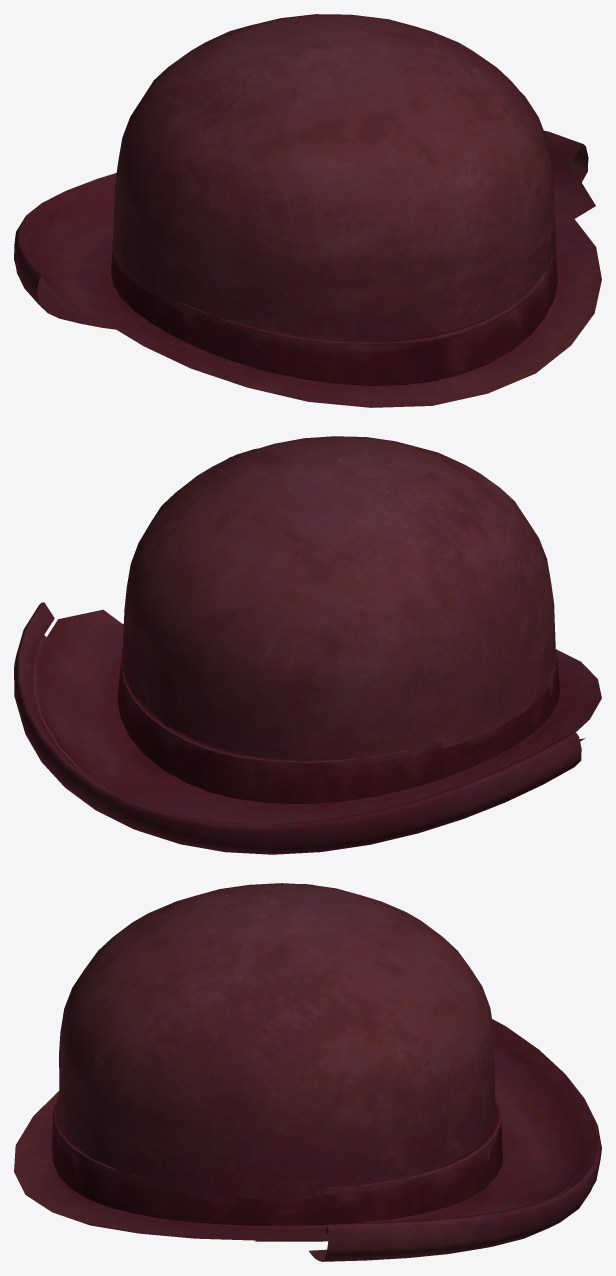
File: jungpurple.fbx
3 views of the same model, one above another, from view 1: azimuth 30°, elevation 25°; view 2: azimuth 150°, elevation 25°; view 3: azimuth 270°, elevation 25° (orthographic). The views are drawn at different scales.
Visible parts, largest first — view 1: node_id5; view 2: node_id5; view 3: node_id5.
Part boxes in pixels (bbox=[...]): node_id5: bbox=[14, 14, 601, 407]; node_id5: bbox=[14, 436, 601, 854]; node_id5: bbox=[14, 883, 601, 1261].
Size of the model in its own units: 0.512 by 0.2453 by 0.4824.
1 material, 1 textured.
